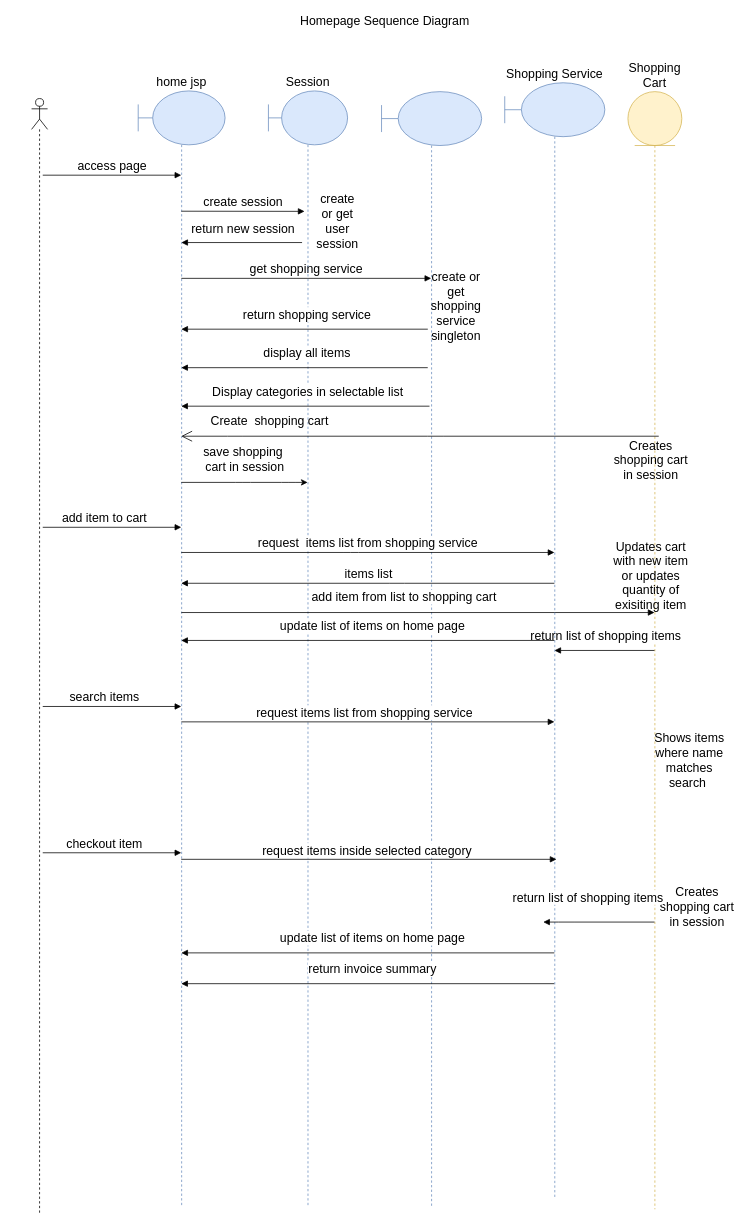
Image size: 749x1228. Some labels were removed from this diagram. Here are the shapes that lost their labels. From the top down, the box of each, then its label:
(31, 98, 48, 1215): Customer
(381, 91, 482, 1207): Web Object Factory
